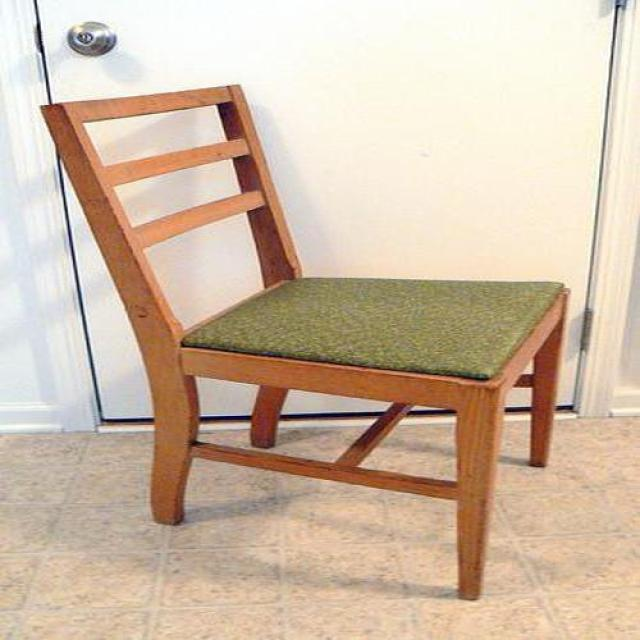chair: (45, 84, 571, 603)
